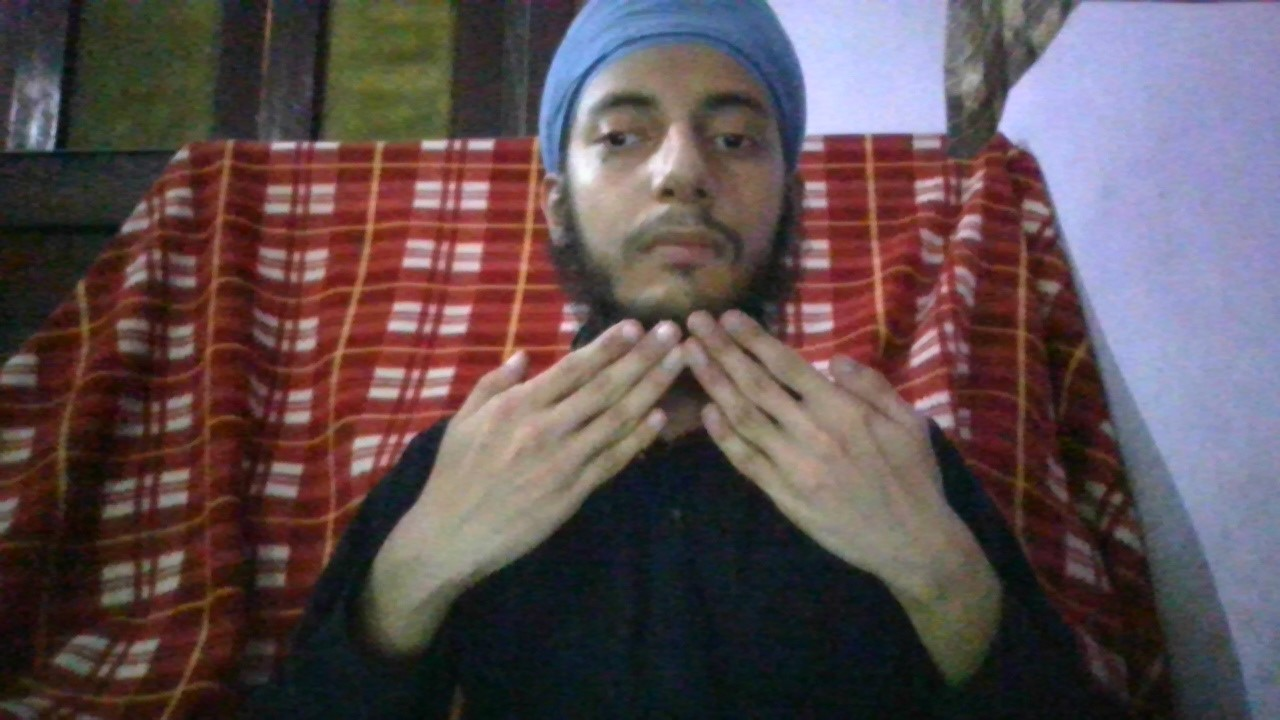Thank You: (442, 316, 942, 546)
